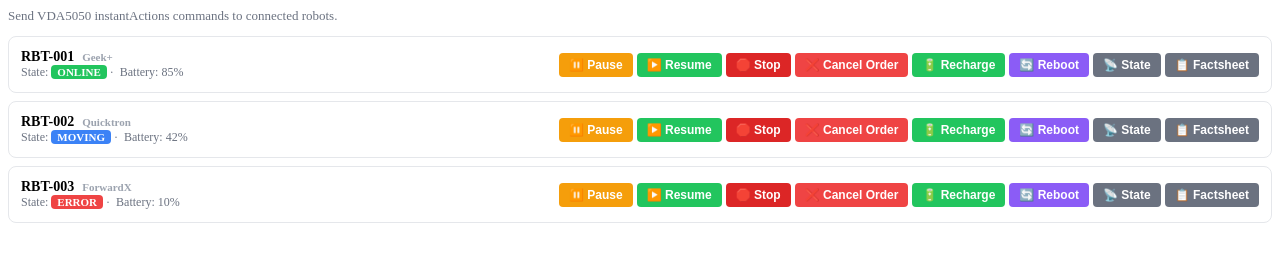
CommandPanel — 指令下发控制台 › shows success result after command succeeds
Expected: the text "RBT-001" is shown, [21,49,74,64]
Click the button "⏸️ Pause" in the row of "85%" at (596, 64), box [559,52,633,76]
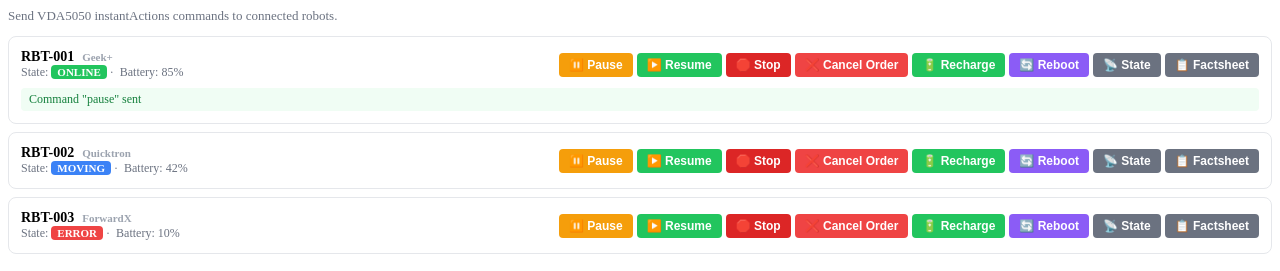
Now the text "Command \"pause\" sent" is shown, box [21,88,1259,111]
